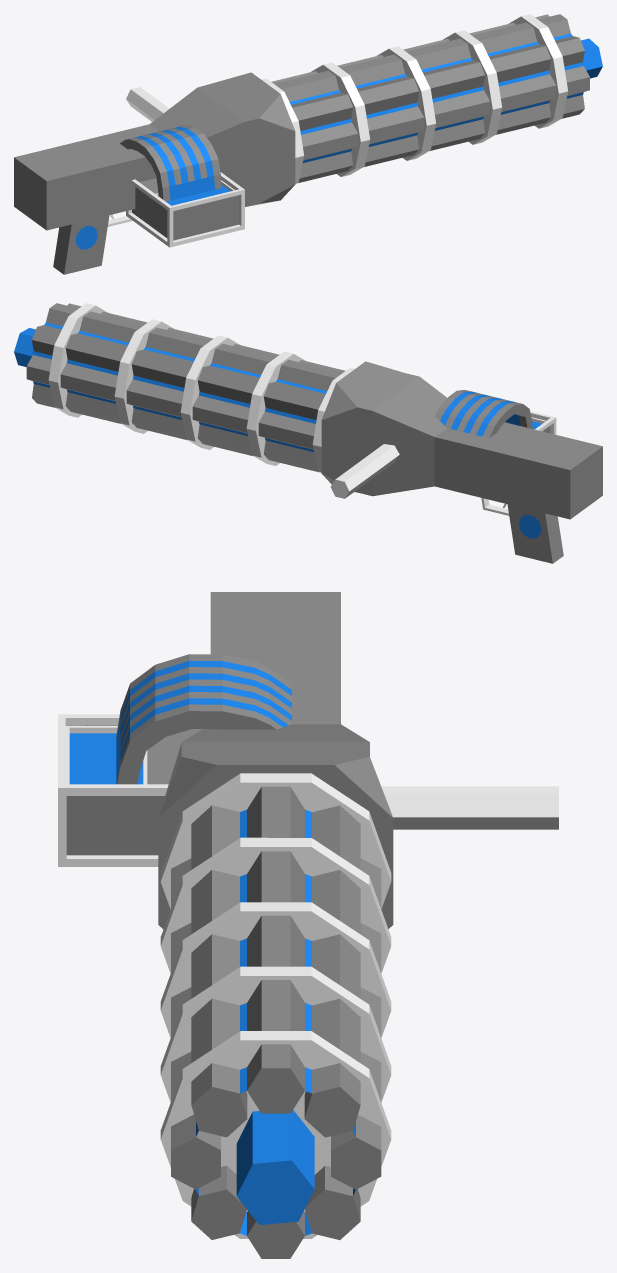
Rendered from Test_MachineGun.fbx.
3 renders of one model, top to bottom at view 1: azimuth 30°, elevation 25°; view 2: azimuth 150°, elevation 25°; view 3: azimuth 270°, elevation 25°, orthographic. The views are drawn at different scales.
Parts seen in each view (by area): view 1: Pistol, Pistol.001; view 2: Pistol.001, Pistol; view 3: Pistol.001, Pistol.
Part boxes in pixels (x1=…): Pistol: x1=14, y1=72, x2=295, y2=274; Pistol.001: x1=262, y1=14, x2=602, y2=184; Pistol.001: x1=14, y1=303, x2=354, y2=473; Pistol: x1=321, y1=361, x2=602, y2=563; Pistol.001: x1=160, y1=773, x2=391, y2=1258; Pistol: x1=58, y1=592, x2=558, y2=929.
Bounding box in the file's own units: 299 × 69.5 × 115.
